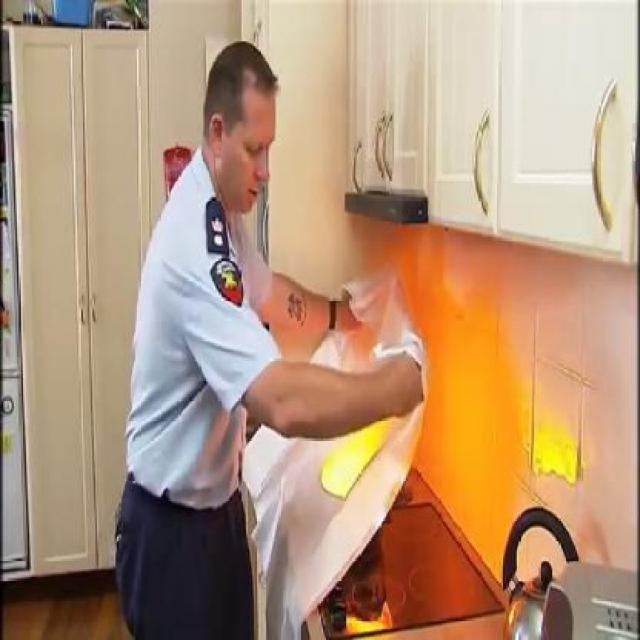fire: (326, 436, 384, 501)
smoke: (341, 204, 410, 298)
